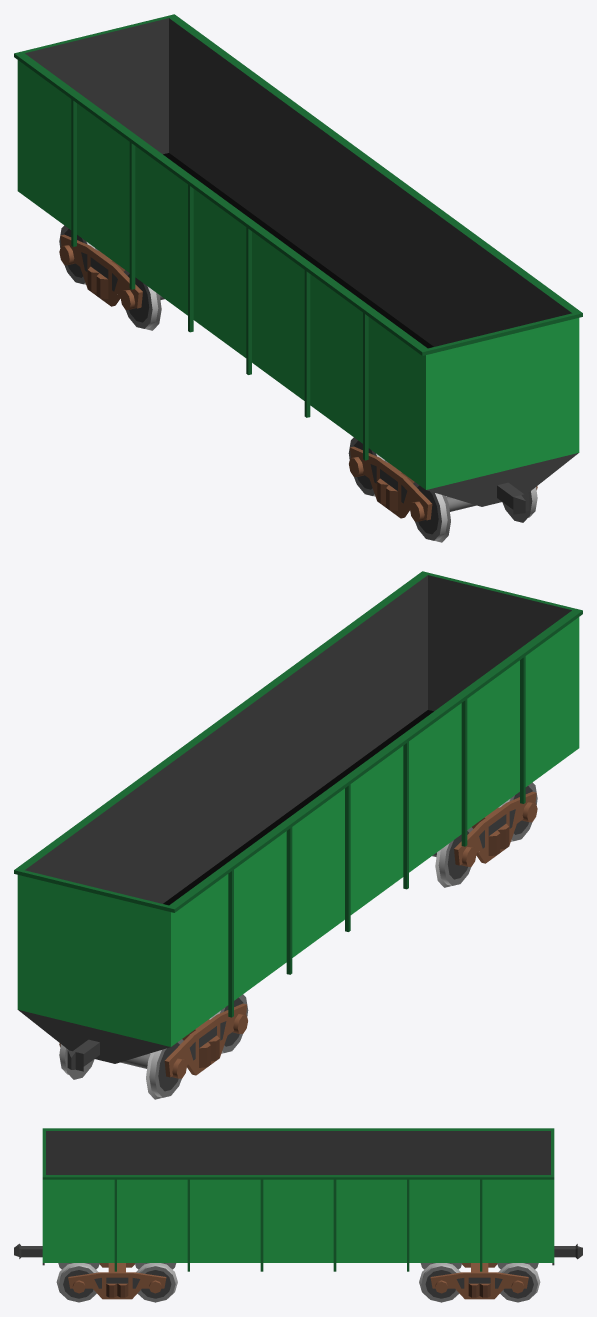
Rendered from opentop_12-532_Green.glb.
The picture shows the model from 3 angles, top to bottom: view 1: azimuth 30°, elevation 25°; view 2: azimuth 150°, elevation 25°; view 3: azimuth 270°, elevation 25°; orthographic projection. The views are drawn at different scales.
Visible parts, largest first — view 1: opentop_12-532_Green; view 2: opentop_12-532_Green; view 3: opentop_12-532_Green.
Boxes of the visible parts, x1,y1,x2,y2 form: opentop_12-532_Green: (14, 14, 582, 542); opentop_12-532_Green: (14, 571, 582, 1099); opentop_12-532_Green: (14, 1128, 582, 1302).
Bounding box in the file's own units: 2.88 × 3.76 × 14.13.
1 material, 1 textured.
